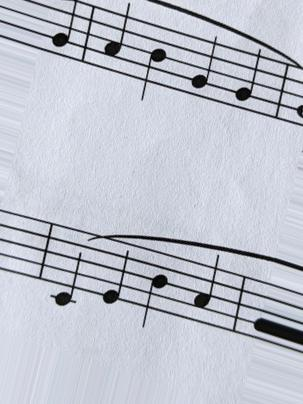A: (191, 251, 222, 335), (101, 2, 132, 80)
B: (136, 16, 170, 105), (141, 244, 169, 329)
E: (101, 237, 133, 315)
G: (188, 28, 220, 108), (231, 44, 262, 121)
LC: (50, 217, 83, 315)
